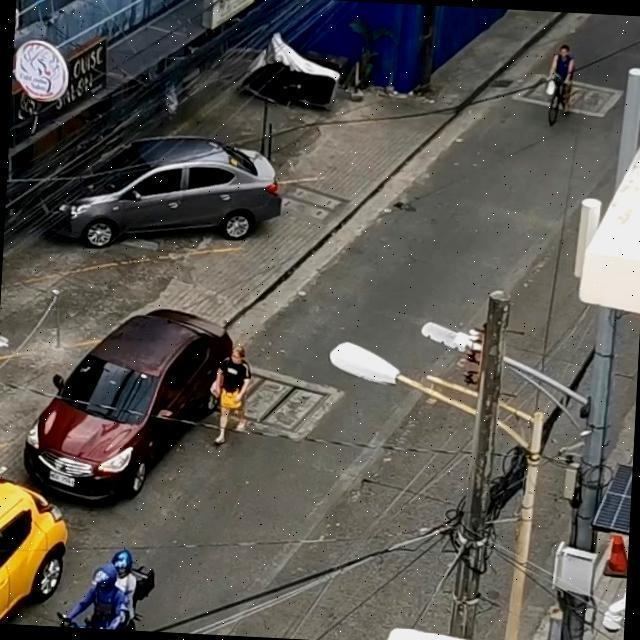Motorcycle: (38, 530, 170, 632), (611, 15, 640, 109)
